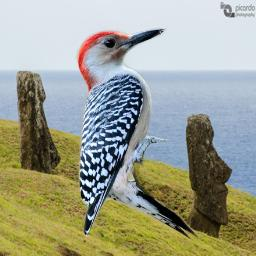Woodpecker: (66, 19, 208, 256)
